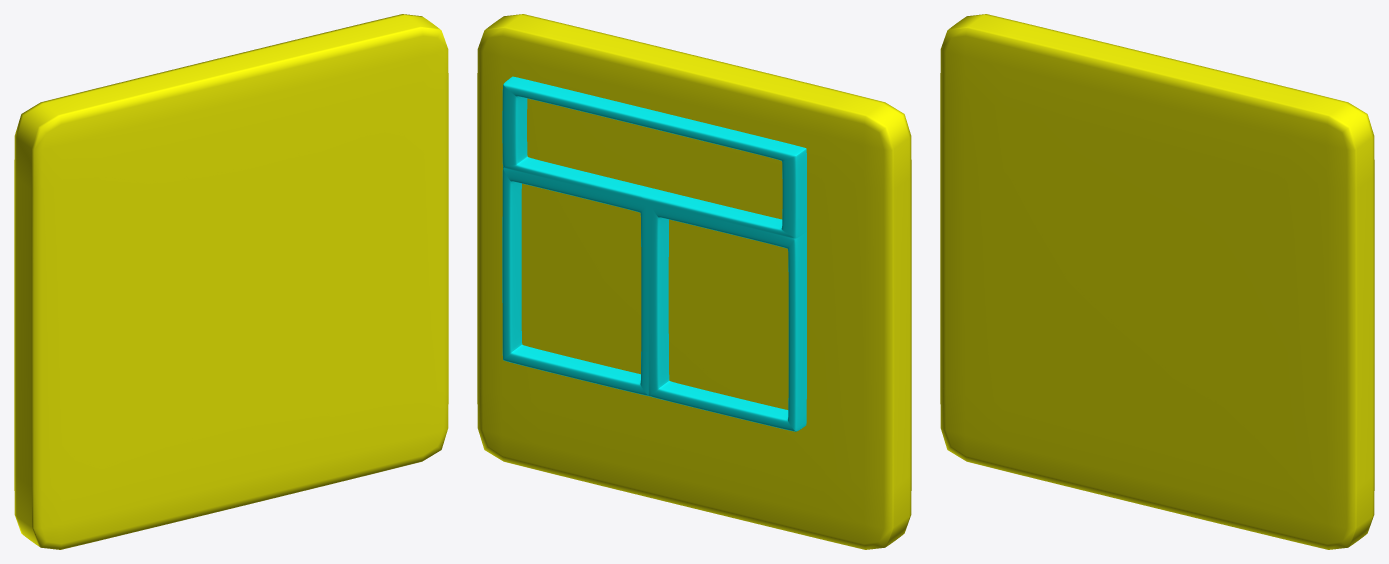
3 renders of one model, left to right at view 1: azimuth 30°, elevation 25°; view 2: azimuth 150°, elevation 25°; view 3: azimuth 330°, elevation 25°, orthographic.
Visible parts, largest first — view 1: polySurface1024; view 2: polySurface1024; view 3: polySurface1024.
Boxes of the visible parts, x1,y1,x2,y2 form: polySurface1024: [14, 14, 448, 549]; polySurface1024: [477, 14, 911, 549]; polySurface1024: [940, 14, 1374, 549].
Bounding box in the file's own units: 0.9994 × 0.9994 × 0.1418.
